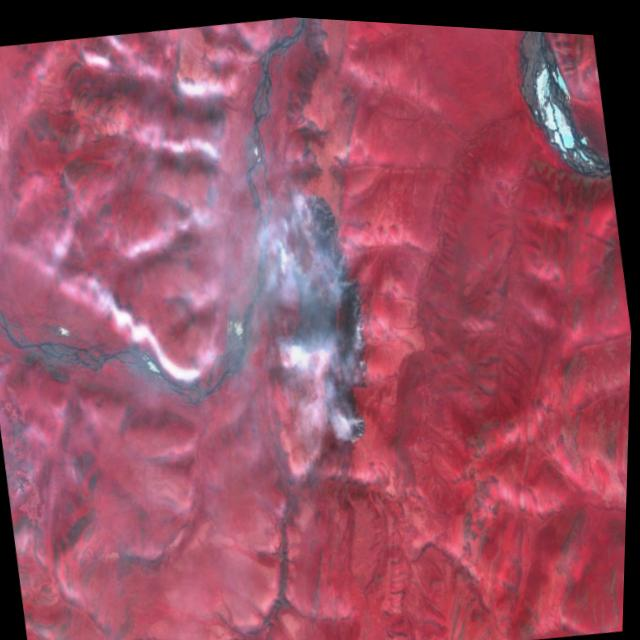fire: (255, 167, 396, 462)
